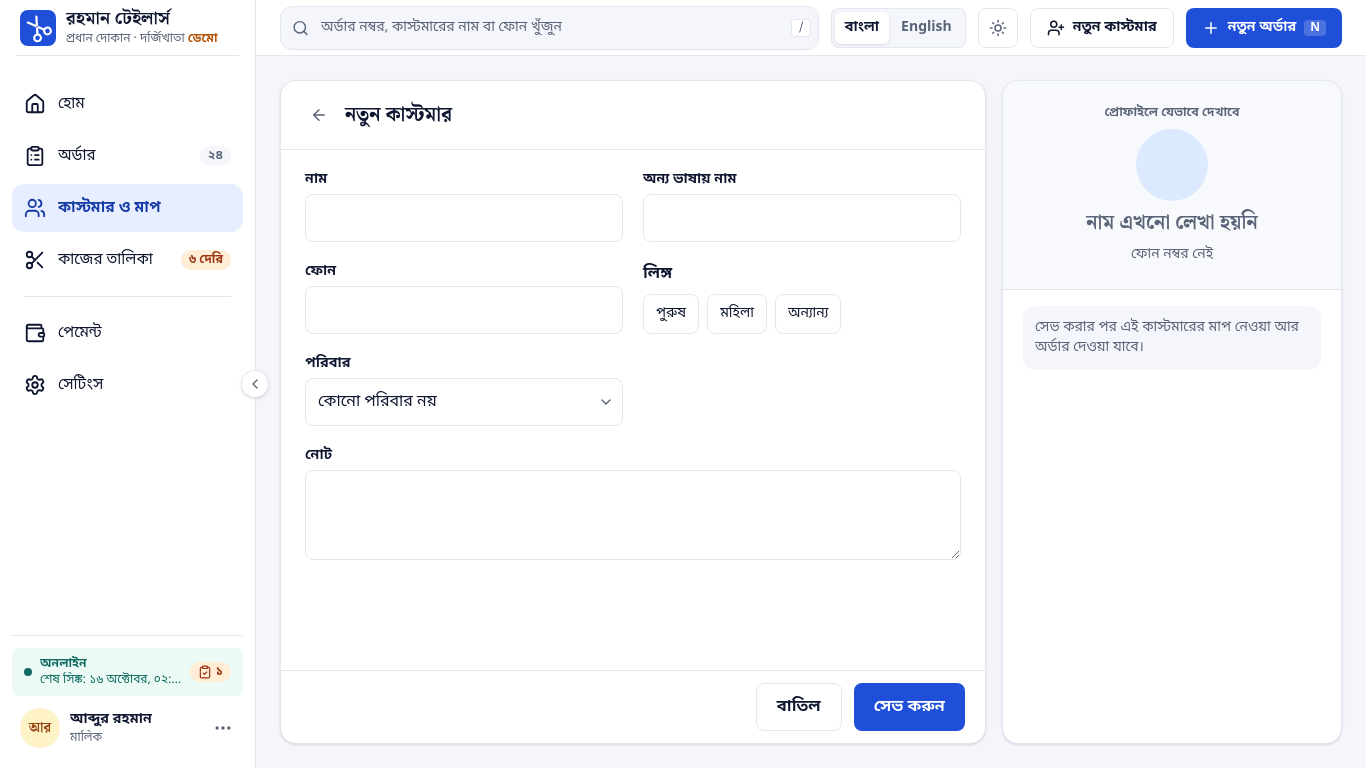
Test case: Customer form › shows problems beside the fields and saves nothing
Type "123" into the field labelled "ফোন" at (464, 310), box [306,290,622,330]
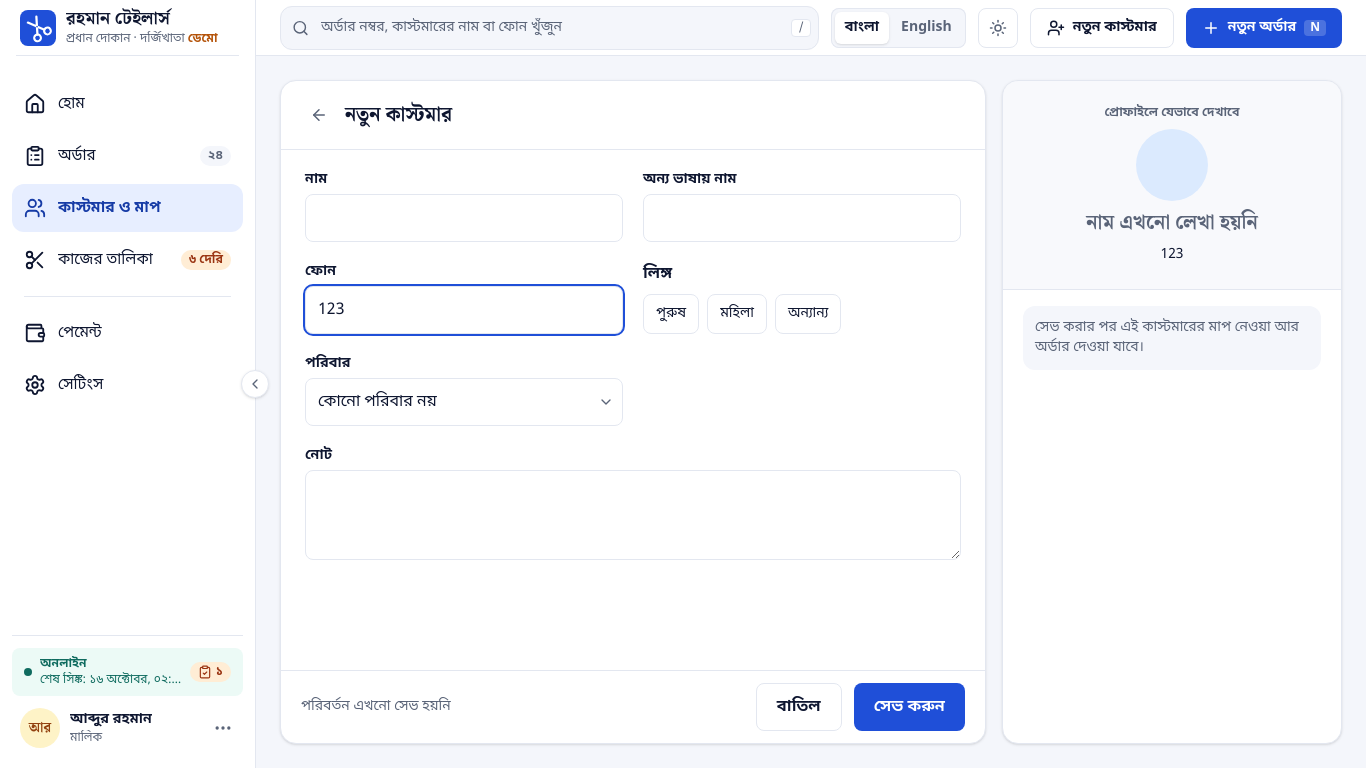
Click the button "সেভ করুন" at (909, 707), box [854,683,965,731]
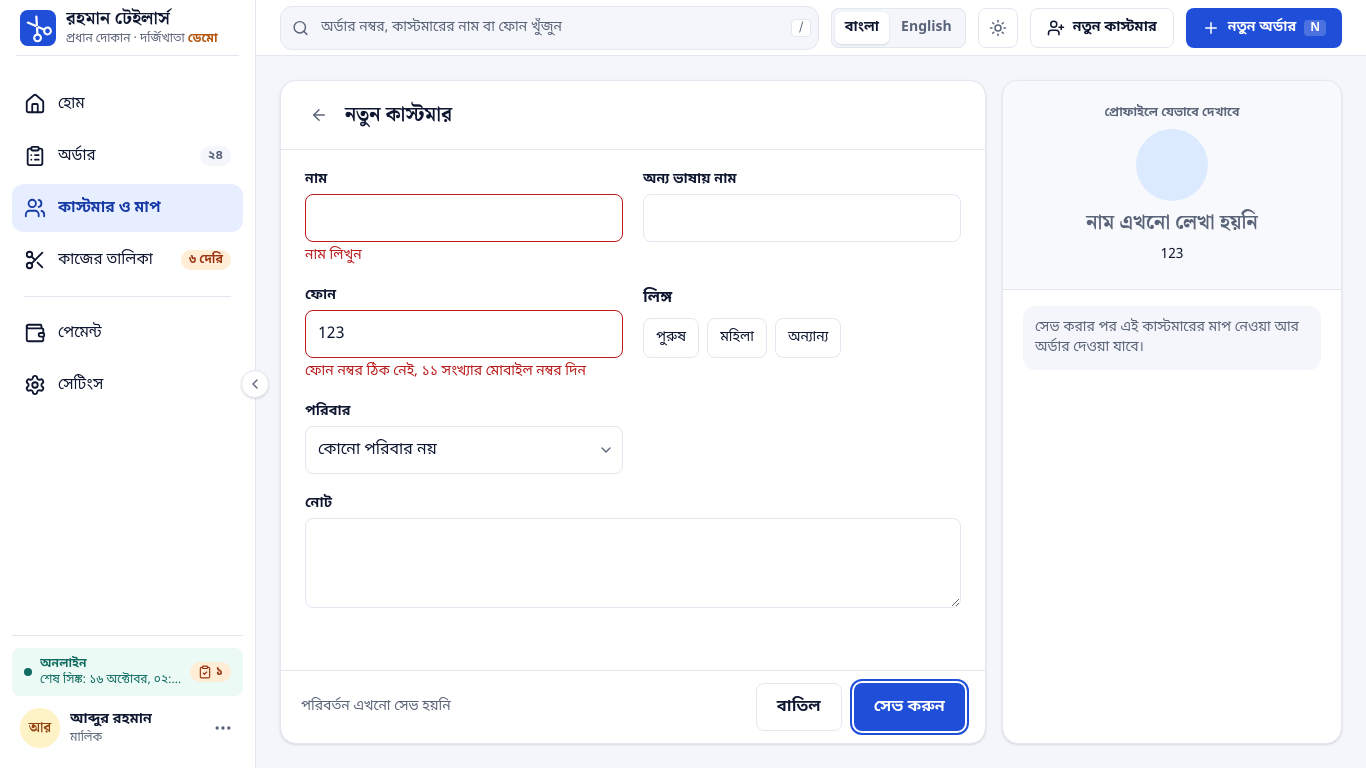
Expected: the text "নাম লিখুন" is shown, [305,246,362,265]
Expected: the text "ফোন নম্বর ঠিক নেই, ১১ সংখ্যার মোবাইল নম্বর দিন" is shown, [305,362,623,382]
